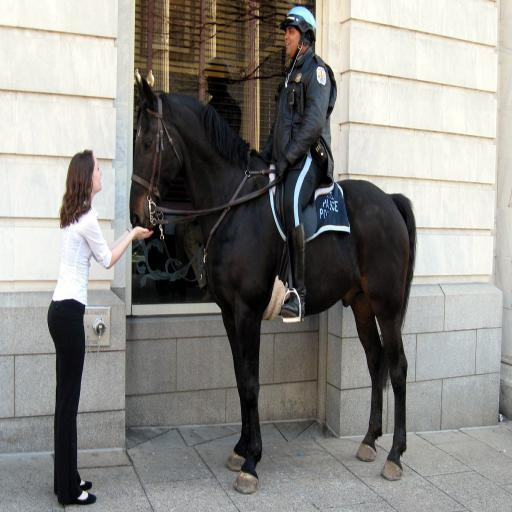Horse: (129, 77, 417, 495)
